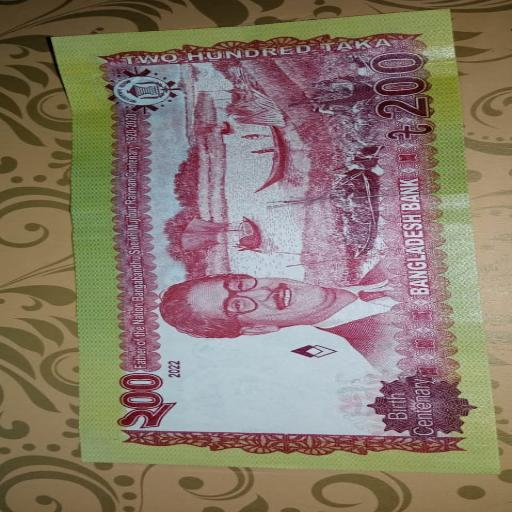200taka: (52, 9, 498, 473)
